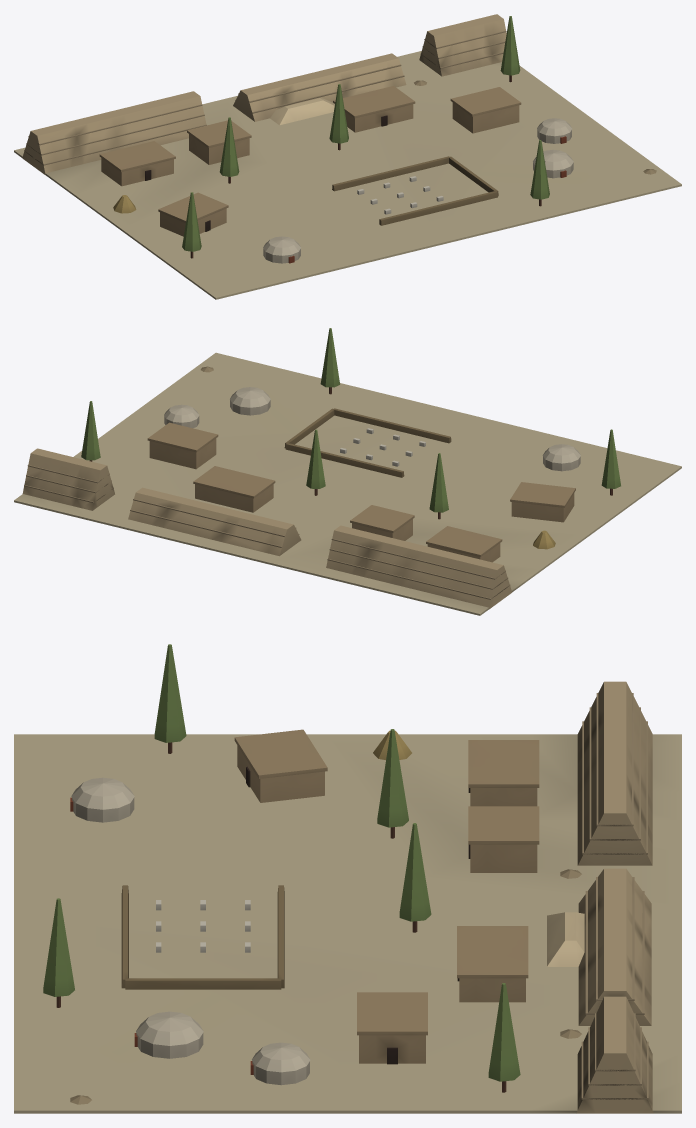
Rendered from ming-village.glb.
3 renders of one model, top to bottom at view 1: azimuth 30°, elevation 25°; view 2: azimuth 150°, elevation 25°; view 3: azimuth 270°, elevation 25°, orthographic. The views are drawn at different scales.
Parts seen in each view (by area): view 1: p0_old wall, p1_tents, p2_scrub; view 2: p0_old wall, p1_tents, p2_scrub; view 3: p0_old wall, p1_tents, p2_scrub.
Part boxes in pixels (bbox=[...]): p0_old wall: bbox=[14, 14, 681, 299]; p1_tents: bbox=[99, 86, 573, 263]; p2_scrub: bbox=[113, 16, 656, 258]; p0_old wall: bbox=[14, 352, 681, 615]; p1_tents: bbox=[147, 387, 580, 562]; p2_scrub: bbox=[81, 328, 620, 549]; p0_old wall: bbox=[14, 681, 681, 1113]; p1_tents: bbox=[70, 729, 539, 1085]; p2_scrub: bbox=[43, 644, 581, 1104].
Bounding box in the file's own units: 80.06 × 11.03 × 60.
